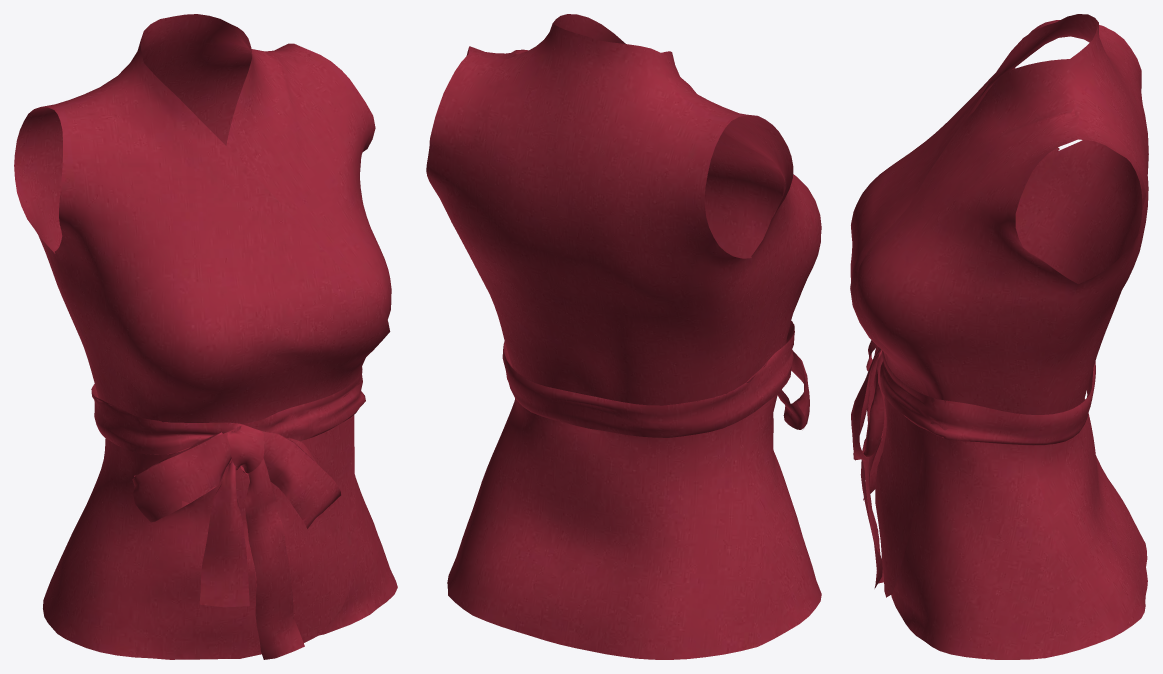
The model's file is pink-blouse.glb.
3 views of the same model, side by side, from view 1: azimuth 30°, elevation 25°; view 2: azimuth 150°, elevation 25°; view 3: azimuth 270°, elevation 25° (orthographic). The views are drawn at different scales.
Parts seen in each view (by area): view 1: defaultMaterial; view 2: defaultMaterial; view 3: defaultMaterial.
Boxes of the visible parts, box(x1,y1,x2,y2) form: defaultMaterial: box(14, 14, 397, 659); defaultMaterial: box(426, 14, 821, 659); defaultMaterial: box(850, 14, 1148, 659).
Bounding box in the file's own units: 1.19 × 2 × 0.9654.
Materials: 1 (1 with a texture image).
